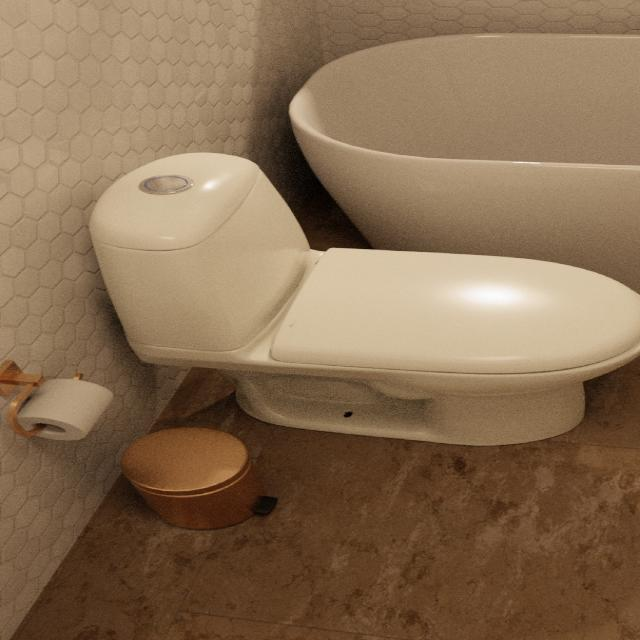toilet: (81, 141, 640, 455)
